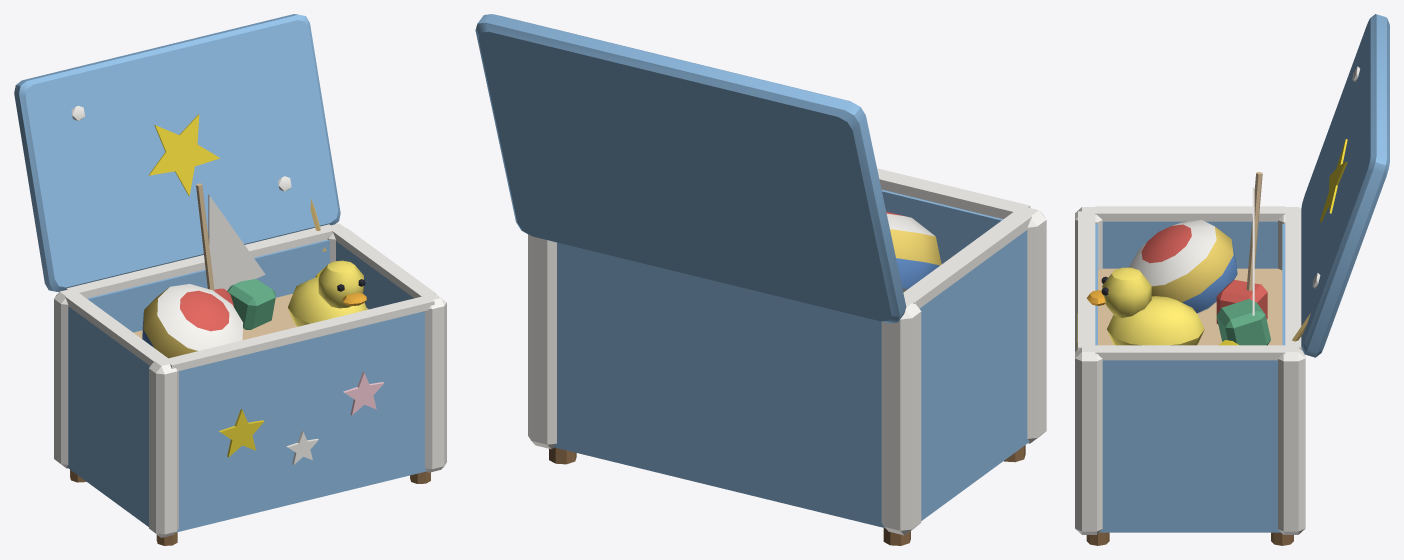
File: furn_toy_box.glb
The picture shows the model from 3 angles, left to right: view 1: azimuth 30°, elevation 25°; view 2: azimuth 150°, elevation 25°; view 3: azimuth 270°, elevation 25°; orthographic projection. The views are drawn at different scales.
Parts seen in each view (by area): view 1: furn_toy_box_body; view 2: furn_toy_box_body; view 3: furn_toy_box_body.
Boxes of the visible parts, <box> form: furn_toy_box_body: <box>14,14,446,545</box>; furn_toy_box_body: <box>475,14,1046,545</box>; furn_toy_box_body: <box>1075,14,1389,545</box>.
Bounding box in the file's own units: 0.62 × 0.7472 × 0.5465.
